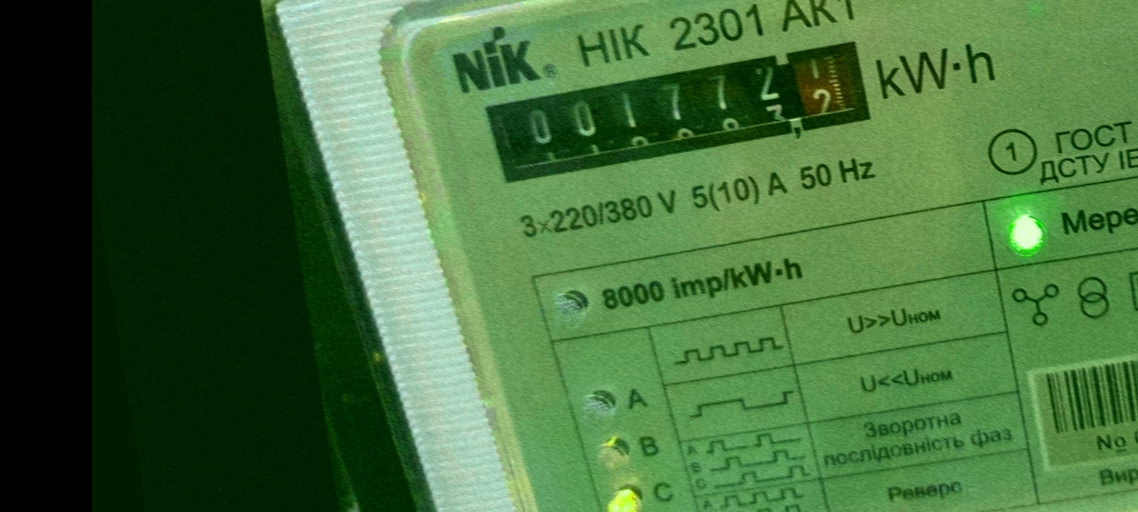0: (524, 104, 557, 148), (571, 97, 599, 140)
1: (619, 90, 641, 131), (808, 57, 824, 84)
2: (754, 65, 783, 104), (809, 86, 836, 117)
3: (765, 102, 789, 126)
7: (661, 81, 689, 125), (706, 73, 733, 114)
screen: (473, 28, 892, 198)
